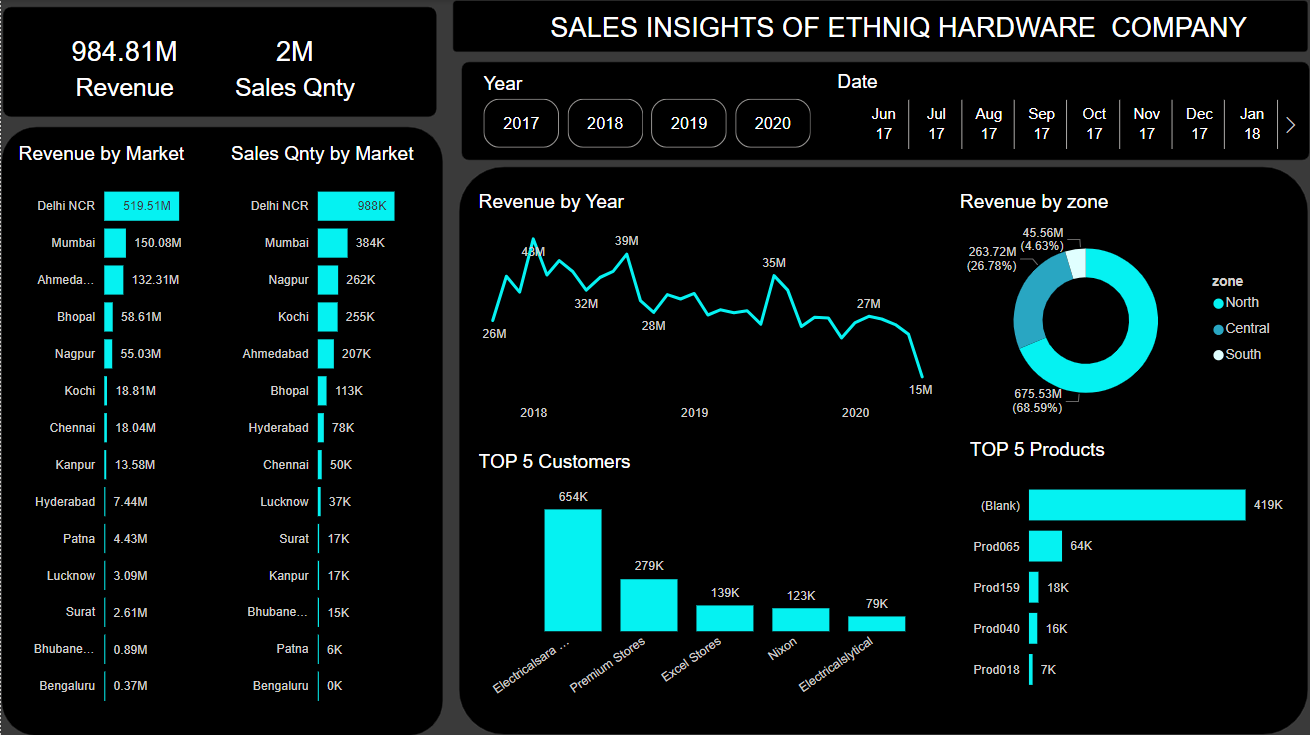

This screenshot's page, from the dashboard's own definition file:
{"tool":"powerbi","page":{"name":"Page 1","canvas":[1280,720],"ordinal":0},"visuals":[{"type":"shape","box":[441,0,837.6,51.4],"z":0,"group":"g4"},{"type":"shape","box":[1,6,425.5,108.8],"z":0,"group":"g1"},{"type":"shape","box":[0,123.5,432.9,596.7],"z":0},{"type":"shape","box":[447.6,162.6,831.5,556.4],"z":0,"group":"g3"},{"type":"card","fields":{"Values":["BaseMeasures.Revenue"]},"box":[35.1,17.5,171.4,92.6],"z":1000,"group":"g1"},{"type":"shape","box":[450,59.9,830.6,97.4],"z":1000,"group":"g2"},{"type":"barChart","title":"Revenue by Market","fields":{"Y":["BaseMeasures.Revenue"],"Category":["sales markets.markets_name"]},"box":[12.2,139.4,207.9,566.2],"z":1000},{"type":"card","fields":{"Values":["BaseMeasures.Sales Qnty"]},"box":[207.7,17.5,159.6,92.6],"z":2000,"group":"g1"},{"type":"barChart","title":"Sales Qnty by Market","fields":{"Y":["BaseMeasures.Sales Qnty"],"Category":["sales markets.markets_name"]},"box":[220.1,139.4,196.9,566.2],"z":2000},{"type":"group","id":"g1","title":"Group 1","box":[1,6,425.5,108.8],"z":3000},{"type":"group","id":"g2","title":"Group 2","box":[450,59.9,830.6,97.4],"z":4000},{"type":"advancedSlicerVisual","title":"Year","fields":{"Values":["sales date.year"]},"box":[467.1,71,330.2,79.5],"z":5000,"group":"g2"},{"type":"group","id":"g3","title":"Group 3","box":[447.6,162.6,831.5,556.4],"z":5000},{"type":"group","id":"g4","title":"Group 4","box":[441,0,839,64],"z":6000},{"type":"clusteredBarChart","title":"TOP 5 Products","fields":{"Category":["sales products.product_code"],"Y":["BaseMeasures.Sales Qnty"]},"box":[942.3,429.5,322.8,263.3],"z":6000,"group":"g3"},{"type":"columnChart","title":"TOP 5 Customers","fields":{"Category":["sales customers.custmer_name"],"Y":["BaseMeasures.Sales Qnty"]},"box":[462.2,441.5,459.5,251.3],"z":7000,"group":"g3"},{"type":"lineChart","title":"Revenue by Year","fields":{"Y":["BaseMeasures.Revenue"],"Category":["sales date.cy_date.Variation.Date Hierarchy.Year","sales date.cy_date.Variation.Date Hierarchy.Quarter","sales date.cy_date.Variation.Date Hierarchy.Month","sales date.cy_date.Variation.Date Hierarchy.Day"]},"box":[462.2,187.6,458.2,232.7],"z":8000,"group":"g3"},{"type":"donutChart","fields":{"Y":["BaseMeasures.Revenue"],"Category":["sales markets.zone"]},"box":[932.7,187.6,322.8,232.7],"z":9000,"group":"g3"},{"type":"slicer","title":"Date","fields":{"Values":["sales date.cy_date"]},"box":[813.2,69.8,459.8,83.2],"z":10000,"group":"g2"},{"type":"textbox","box":[482.8,7,797.2,57],"z":11000,"group":"g4"}]}

Visuals, with their boxes in screenshot pixels (x1, y1, x2, y2), scaled from the page's 1280x720 canvas onto the 1310x735 screenshot:
shape: 451, 0, 1309, 52
shape: 1, 6, 436, 117
shape: 0, 126, 443, 734
shape: 458, 166, 1309, 734
card - BaseMeasures.Revenue: 36, 18, 211, 112
shape: 461, 61, 1309, 161
"Revenue by Market" barChart: 12, 142, 225, 720
card - BaseMeasures.Sales Qnty: 213, 18, 376, 112
"Sales Qnty by Market" barChart: 225, 142, 427, 720
"Group 1" group: 1, 6, 436, 117
"Group 2" group: 461, 61, 1309, 161
"Year" advancedSlicerVisual: 478, 72, 816, 154
"Group 3" group: 458, 166, 1309, 734
"Group 4" group: 451, 0, 1309, 65
"TOP 5 Products" clusteredBarChart: 964, 438, 1295, 707
"TOP 5 Customers" columnChart: 473, 451, 943, 707
"Revenue by Year" lineChart: 473, 192, 942, 429
donutChart - BaseMeasures.Revenue x sales markets.zone: 955, 192, 1285, 429
"Date" slicer: 832, 71, 1303, 156
textbox: 494, 7, 1309, 65
